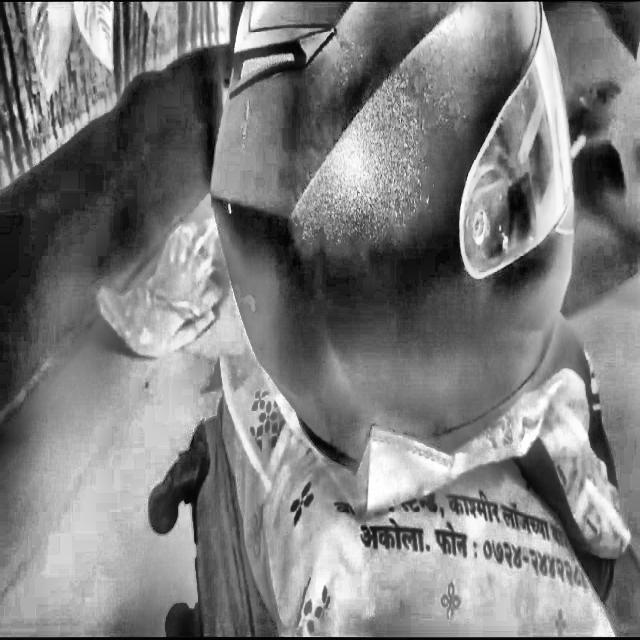Helmet: (201, 3, 583, 485)
